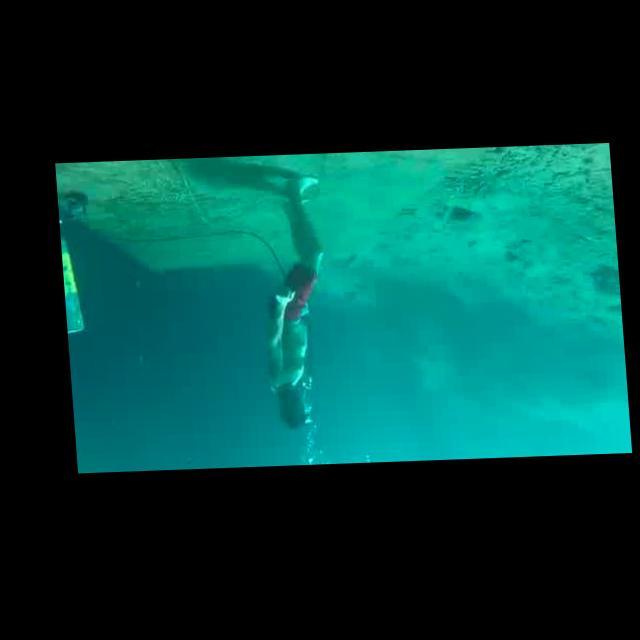human: (245, 175, 337, 440)
